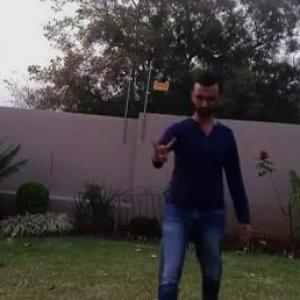takeoff-hand: (147, 135, 179, 166)
